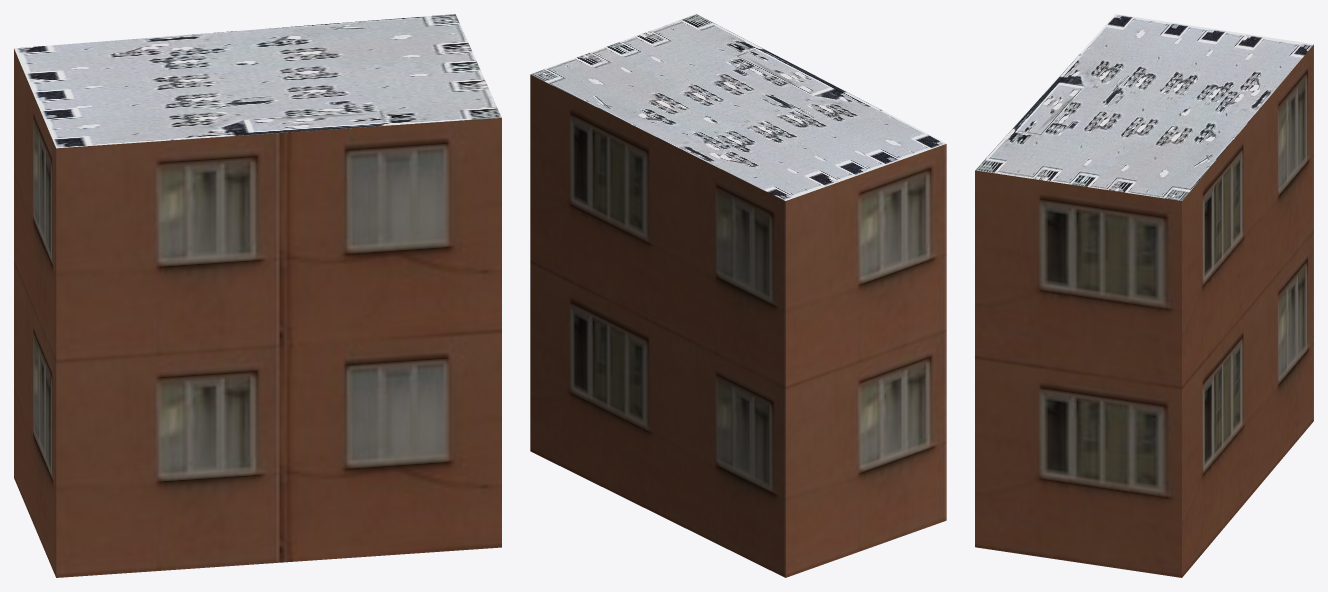
Rendered from ResTex__618.fbx.
3 renders of one model, left to right at view 1: azimuth 30°, elevation 25°; view 2: azimuth 150°, elevation 25°; view 3: azimuth 270°, elevation 25°, orthographic. The views are drawn at different scales.
Visible parts, largest first — view 1: CityEngineMaterial_20_m, CityEngineMaterial_8_m; view 2: CityEngineMaterial_20_m, CityEngineMaterial_8_m; view 3: CityEngineMaterial_20_m, CityEngineMaterial_8_m.
Part boxes in pixels (x1,y1,x2,y2): CityEngineMaterial_20_m: (14, 49, 501, 577); CityEngineMaterial_8_m: (14, 14, 501, 148); CityEngineMaterial_20_m: (530, 74, 946, 577); CityEngineMaterial_8_m: (530, 14, 946, 200); CityEngineMaterial_20_m: (975, 44, 1313, 577); CityEngineMaterial_8_m: (975, 14, 1313, 200).
Bounding box in the file's own units: 6.39 × 6 × 4.89.
2 materials, 2 textured.
